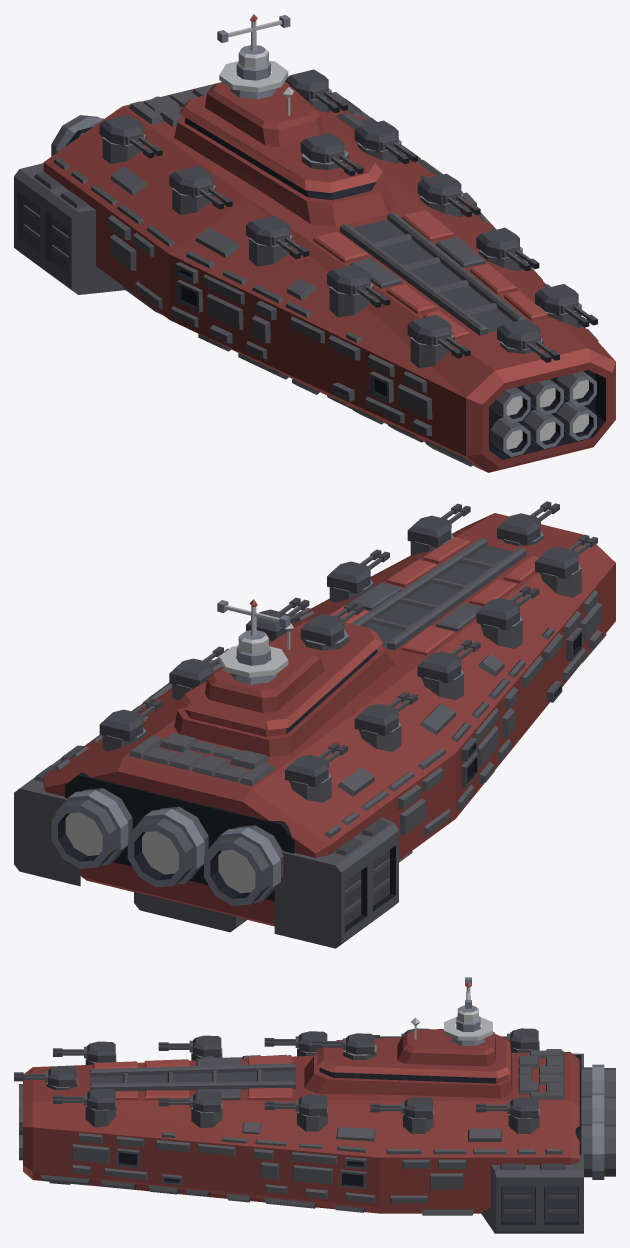
Rendered from capital_cruiser.glb.
The picture shows the model from 3 angles, top to bottom: view 1: azimuth 30°, elevation 25°; view 2: azimuth 150°, elevation 25°; view 3: azimuth 270°, elevation 25°; orthographic projection. The views are drawn at different scales.
Visible parts, largest first — view 1: hull, hangar-door-p-mesh, turret-p2-mesh, turret-s3-mesh, turret-p5-mesh, turret-s2-mesh, turret-p1-mesh, turret-p3-mesh, turret-c1-mesh, turret-s4-mesh, turret-p4-mesh, turret-c2-mesh (+3 smaller); view 2: hull, engine-nozzles-mesh, hangar-door-p-mesh, turret-s1-mesh, turret-p3-mesh, turret-p2-mesh, turret-s5-mesh, turret-c1-mesh, turret-p4-mesh, turret-p5-mesh, turret-p1-mesh, turret-c2-mesh (+3 smaller); view 3: hull, engine-nozzles-mesh, hangar-door-s-mesh, turret-s1-mesh, turret-s2-mesh, turret-s4-mesh, turret-p4-mesh, turret-s3-mesh, turret-c1-mesh, turret-c2-mesh, turret-s5-mesh, turret-p5-mesh (+2 smaller).
Boxes of the visible parts, left/top/right/bottom form: hull: left=14, top=14, right=615, bottom=472; hangar-door-p-mesh: left=23, top=196, right=68, bottom=272; turret-p2-mesh: left=169, top=165, right=232, bottom=209; turret-s3-mesh: left=417, top=173, right=480, bottom=217; turret-p5-mesh: left=407, top=315, right=470, bottom=358; turret-s2-mesh: left=354, top=120, right=417, bottom=164; turret-p1-mesh: left=99, top=114, right=162, bottom=158; turret-p3-mesh: left=246, top=215, right=309, bottom=258; turret-c1-mesh: left=300, top=132, right=363, bottom=176; turret-s4-mesh: left=476, top=227, right=539, bottom=271; turret-p4-mesh: left=327, top=264, right=389, bottom=307; turret-c2-mesh: left=497, top=319, right=559, bottom=362; hull: left=14, top=513, right=615, bottom=948; engine-nozzles-mesh: left=51, top=788, right=283, bottom=905; hangar-door-p-mesh: left=344, top=850, right=389, bottom=926; turret-s1-mesh: left=99, top=697, right=162, bottom=741; turret-p3-mesh: left=417, top=639, right=480, bottom=683; turret-p2-mesh: left=354, top=691, right=417, bottom=735; turret-s5-mesh: left=407, top=503, right=470, bottom=547; turret-c1-mesh: left=300, top=602, right=363, bottom=646; turret-p4-mesh: left=476, top=586, right=539, bottom=630; turret-p5-mesh: left=535, top=534, right=597, bottom=578; turret-p1-mesh: left=285, top=743, right=347, bottom=786; turret-c2-mesh: left=497, top=501, right=559, bottom=545; hull: left=19, top=977, right=583, bottom=1233; engine-nozzles-mesh: left=581, top=1064, right=615, bottom=1179; hangar-door-s-mesh: left=502, top=1186, right=578, bottom=1222; turret-s1-mesh: left=476, top=1097, right=538, bottom=1118; turret-s2-mesh: left=370, top=1097, right=432, bottom=1118; turret-s4-mesh: left=158, top=1091, right=221, bottom=1112; turret-p4-mesh: left=158, top=1035, right=221, bottom=1057; turret-s3-mesh: left=264, top=1094, right=327, bottom=1116; turret-c1-mesh: left=312, top=1033, right=374, bottom=1054; turret-c2-mesh: left=14, top=1066, right=76, bottom=1087; turret-s5-mesh: left=53, top=1088, right=115, bottom=1110; turret-p5-mesh: left=53, top=1041, right=115, bottom=1062.
Bounding box in the file's own units: 20.6 × 16.35 × 43.25.
